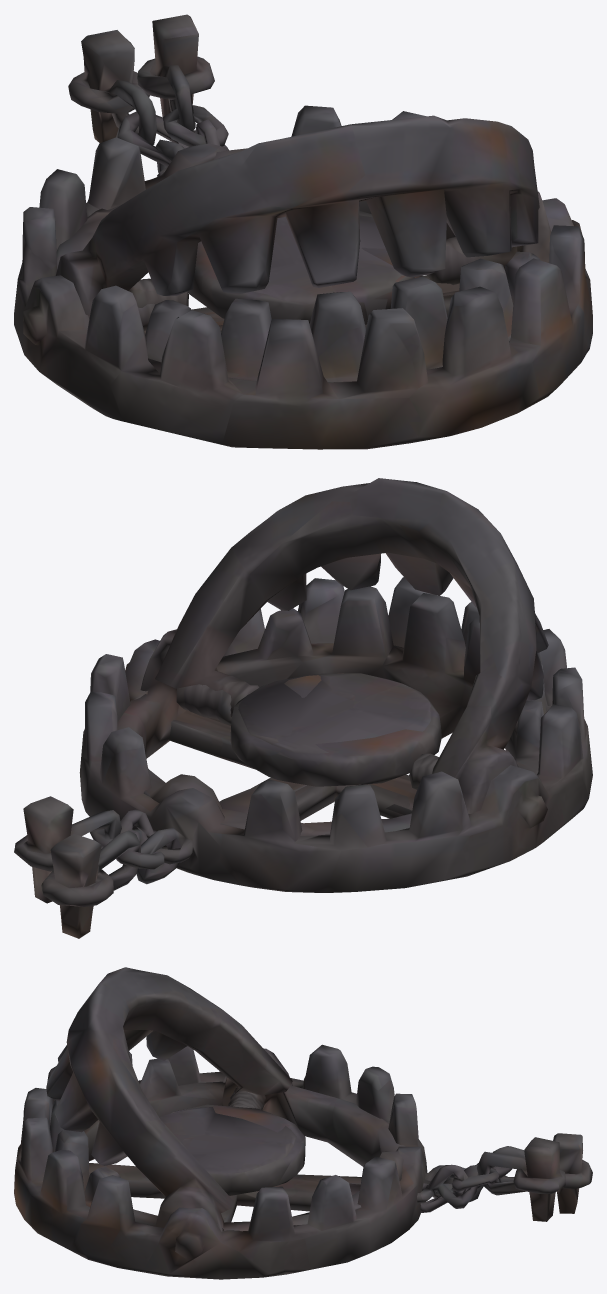
The model's file is skill_trap-BDdP5n_G.glb.
The picture shows the model from 3 angles, top to bottom: view 1: azimuth 30°, elevation 25°; view 2: azimuth 150°, elevation 25°; view 3: azimuth 270°, elevation 25°; orthographic projection. The views are drawn at different scales.
Parts seen in each view (by area): view 1: trap, trap_shut; view 2: trap_shut, trap; view 3: trap_shut, trap.
Boxes of the visible parts, x1,y1,x2,y2 form: trap: (14, 30, 592, 449); trap_shut: (55, 14, 551, 382); trap_shut: (14, 478, 548, 903); trap: (41, 577, 592, 938); trap_shut: (46, 967, 565, 1231); trap: (14, 1044, 592, 1279).
Bounding box in the file's own units: 0.8 × 0.4194 × 1.11.
Materials: 1 (1 with a texture image).
